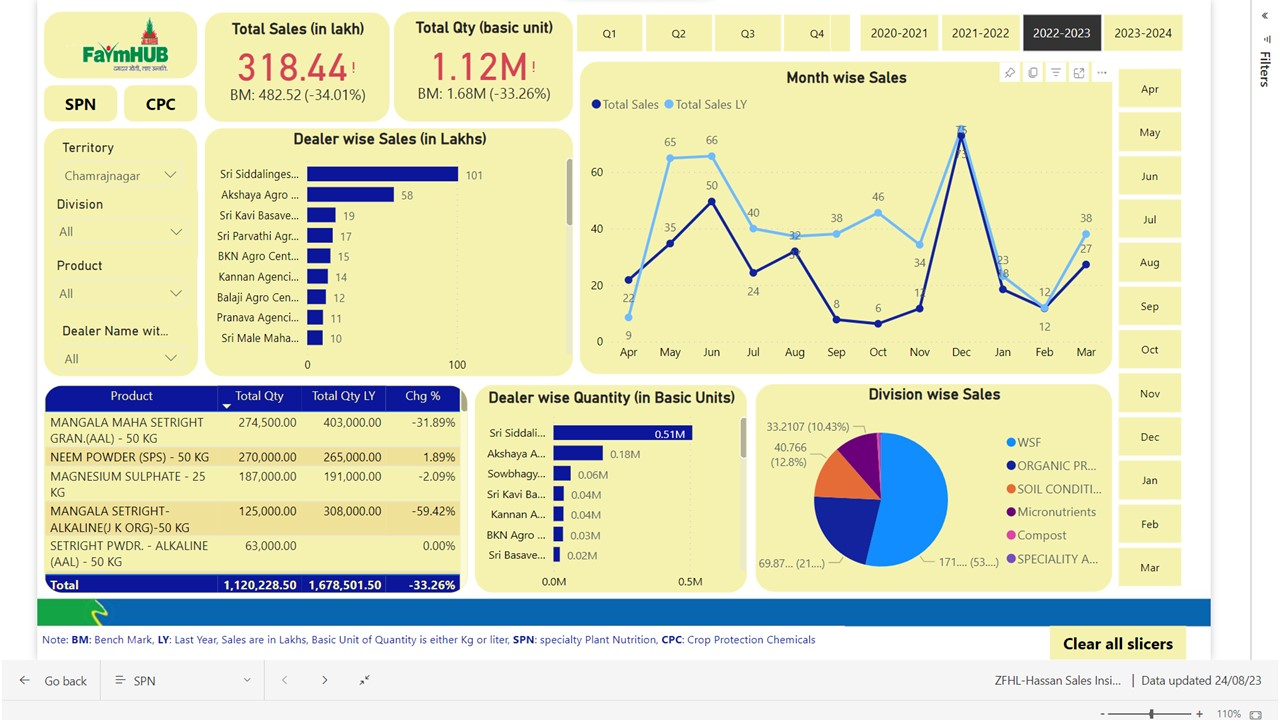

What the dashboard file says about the page in this screenshot:
{"tool":"powerbi","page":{"name":"SPN","canvas":[1280,720],"ordinal":0},"visuals":[{"type":"slicer","fields":{"Values":["SPN.Sales Grp Desc"]},"box":[7.2,140,167.2,84.4],"z":0},{"type":"kpi","title":"Total Sales (in lakh)","fields":{"Indicator":["Kay Measures.Total Sales"],"Goal":["Kay Measures.Total Sales LY $"],"TrendLine":["DIMDATE_SPN.Financial Year"]},"box":[182.5,13.8,201.2,119.4],"z":1000},{"type":"slicer","fields":{"Values":["DIMDATE_SPN.fy_month_name"]},"box":[1152.7,67.3,120,580],"z":2000},{"type":"slicer","fields":{"Values":["DIMDATE CPC.Quarter"]},"box":[561.2,7.5,351.2,55.6],"z":2500},{"type":"slicer","fields":{"Values":["DIMDATE_SPN.Financial Year"]},"box":[864.6,1.7,416,66.2],"z":3000},{"type":"lineChart","title":"Month wise Sales","fields":{"Y":["Kay Measures.Total Sales","Kay Measures.Total Sales LY $"],"Category":["DIMDATE_SPN.fy_month_name"]},"box":[591.8,67.6,580.6,340.6],"z":5000},{"type":"slicer","fields":{"Values":["SPN.Material Div Desc"]},"box":[7.2,208.3,167.8,73.9],"z":6000},{"type":"slicer","fields":{"Values":["SPN.Material Desc"]},"box":[7.1,275.6,167.5,82],"z":7000},{"type":"kpi","title":"Total Qty (basic unit)","fields":{"Indicator":["Kay Measures.Total Qty"],"Goal":["Kay Measures.Total Qty LY"],"TrendLine":["DIMDATE_SPN.Financial Year"]},"box":[389.4,13.1,195,120],"z":8000},{"type":"slicer","fields":{"Values":["SPN.Dealer Name with Code"]},"box":[7.2,340,167.8,70],"z":9000},{"type":"clusteredBarChart","title":"Dealer wise Sales (in Lakhs)","fields":{"Y":["Kay Measures.Total Sales"],"Category":["SPN.Dealer Name with Code"]},"box":[182.5,140,401.9,270],"z":10000},{"type":"tableEx","fields":{"Values":["SPN.Material Desc","Kay Measures.Total Qty","Kay Measures.Total Qty LY","Kay Measures.Qty Chg %"]},"box":[7.7,420,462.3,226.9],"z":11000},{"type":"pieChart","title":"Division wise Sales","fields":{"Category":["SPN.Material Div Desc"],"Y":["Kay Measures.Total Sales"]},"box":[783.6,419.5,388.7,226.3],"z":12000},{"type":"clusteredBarChart","title":"Dealer wise Quantity (in Basic Units)","fields":{"Y":["Kay Measures.Total Qty"],"Category":["SPN.Dealer Name with Code"]},"box":[477.5,420,296.7,226.7],"z":13000},{"type":"image","box":[7.1,13.1,167.5,72.5],"z":14000},{"type":"actionButton","box":[1104.6,682.7,148.8,36.9],"z":15000},{"type":"actionButton","title":"SPN","box":[7.1,92.9,80,40],"z":16000},{"type":"actionButton","title":"SPN","box":[94.3,92.9,80,40],"z":17000},{"type":"textbox","box":[0,682.7,880.7,36.9],"z":18000}]}

Visuals, with their boxes on the page's 1280x720 design canvas (x1, y1, x2, y2). These are canvas units, not pixel positions in the 1280x720 screenshot, which may show the page scaled, cropped or inside an application window:
slicer - SPN.Sales Grp Desc: Rect(7, 140, 174, 224)
"Total Sales (in lakh)" kpi: Rect(182, 14, 384, 133)
slicer - DIMDATE_SPN.fy_month_name: Rect(1153, 67, 1273, 647)
slicer - DIMDATE CPC.Quarter: Rect(561, 8, 912, 63)
slicer - DIMDATE_SPN.Financial Year: Rect(865, 2, 1281, 68)
"Month wise Sales" lineChart: Rect(592, 68, 1172, 408)
slicer - SPN.Material Div Desc: Rect(7, 208, 175, 282)
slicer - SPN.Material Desc: Rect(7, 276, 175, 358)
"Total Qty (basic unit)" kpi: Rect(389, 13, 584, 133)
slicer - SPN.Dealer Name with Code: Rect(7, 340, 175, 410)
"Dealer wise Sales (in Lakhs)" clusteredBarChart: Rect(182, 140, 584, 410)
tableEx - SPN.Material Desc x Kay Measures.Total Qty: Rect(8, 420, 470, 647)
"Division wise Sales" pieChart: Rect(784, 420, 1172, 646)
"Dealer wise Quantity (in Basic Units)" clusteredBarChart: Rect(478, 420, 774, 647)
image: Rect(7, 13, 175, 86)
actionButton: Rect(1105, 683, 1253, 720)
"SPN" actionButton: Rect(7, 93, 87, 133)
"SPN" actionButton: Rect(94, 93, 174, 133)
textbox: Rect(0, 683, 881, 720)
